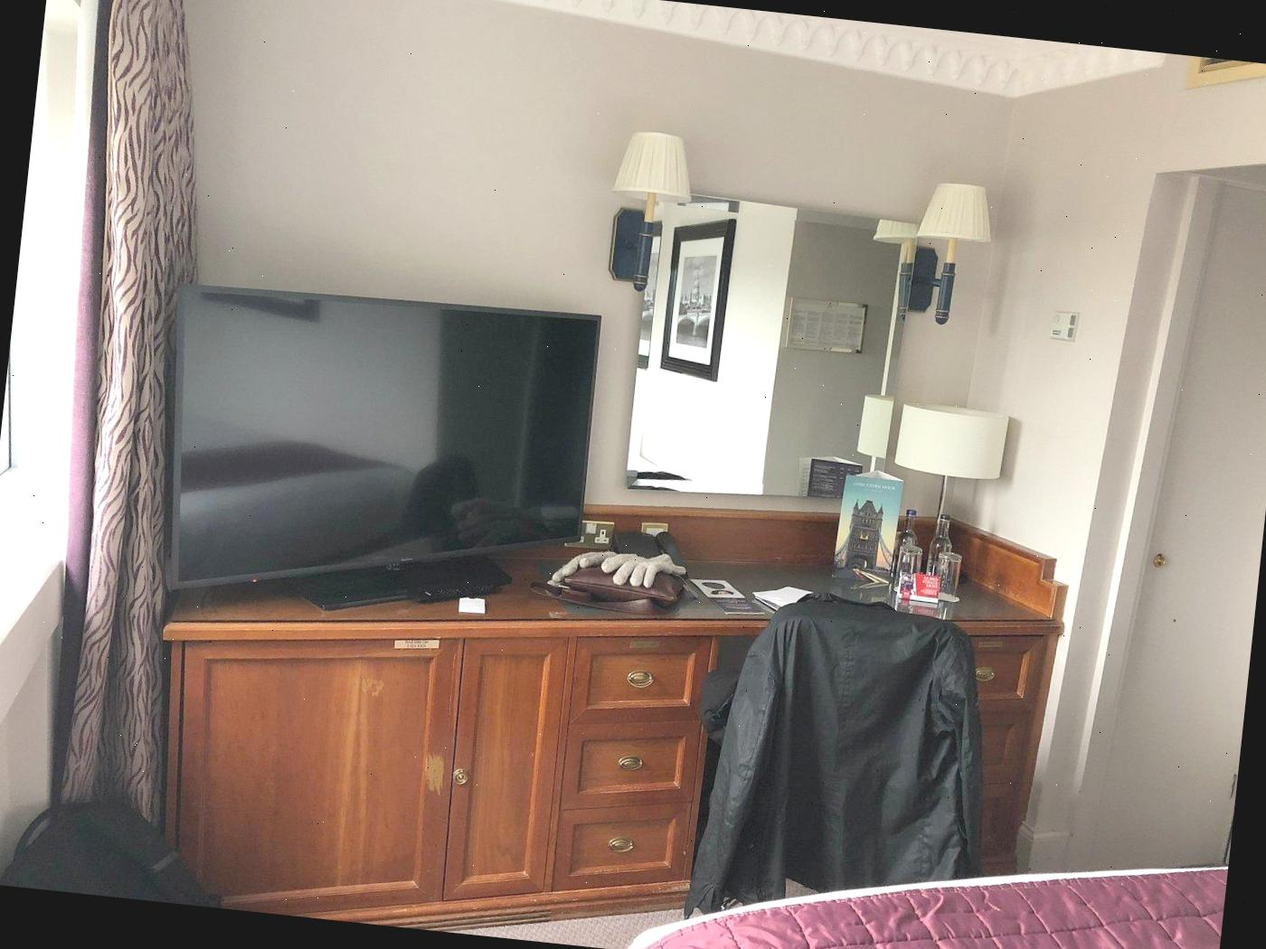messy_table: (146, 490, 1057, 923)
